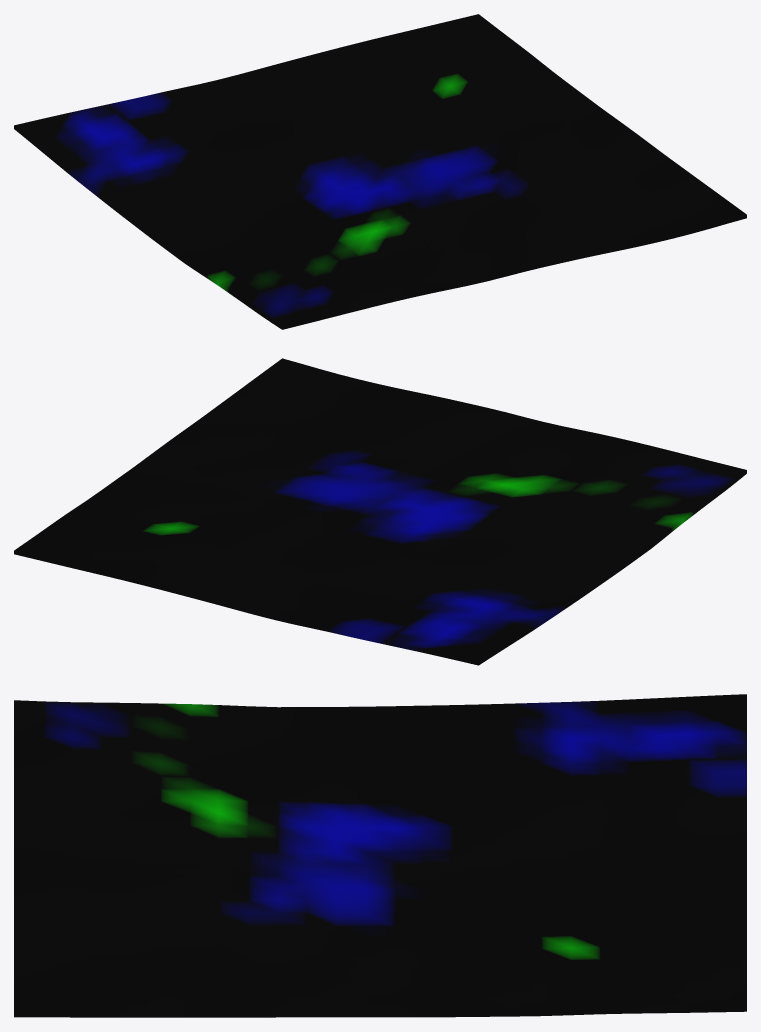
File: coast_12_6.glb
The picture shows the model from 3 angles, top to bottom: view 1: azimuth 30°, elevation 25°; view 2: azimuth 150°, elevation 25°; view 3: azimuth 270°, elevation 25°; orthographic projection. The views are drawn at different scales.
Visible parts, largest first — view 1: terrain; view 2: terrain; view 3: terrain.
Boxes of the visible parts, x1,y1,x2,y2 form: terrain: [14, 14, 746, 329]; terrain: [14, 358, 746, 665]; terrain: [14, 694, 746, 1017].
Size of the model in its own units: 200 by 5.42 by 200.
